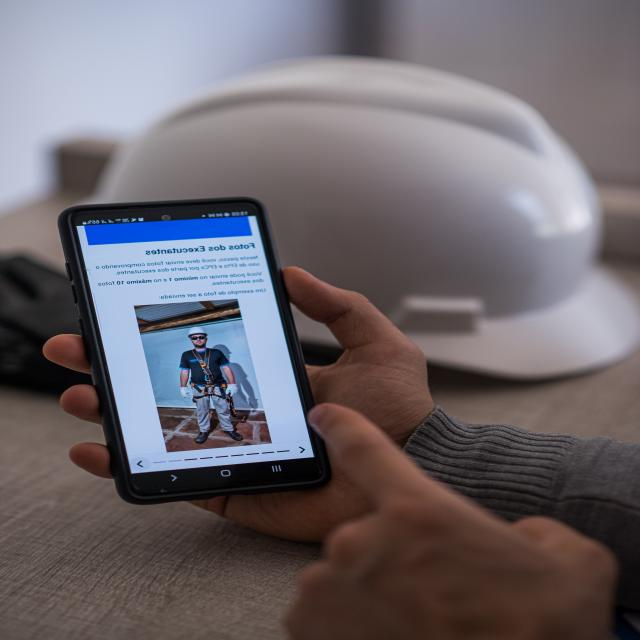botas: (220, 426, 248, 442), (192, 426, 212, 445)
capacete: (64, 48, 640, 386), (188, 324, 210, 334)
corda de vida: (190, 345, 222, 401)
luva: (222, 381, 242, 398), (178, 383, 194, 401)
